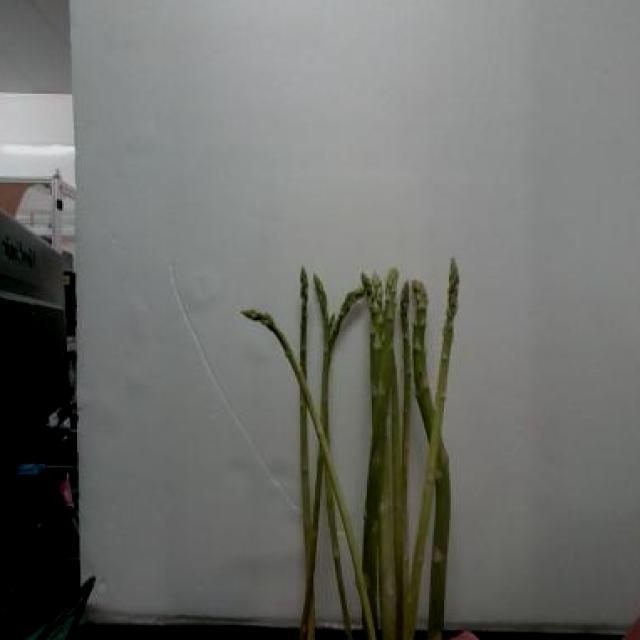aspargus: (232, 305, 383, 640), (400, 251, 464, 640)
